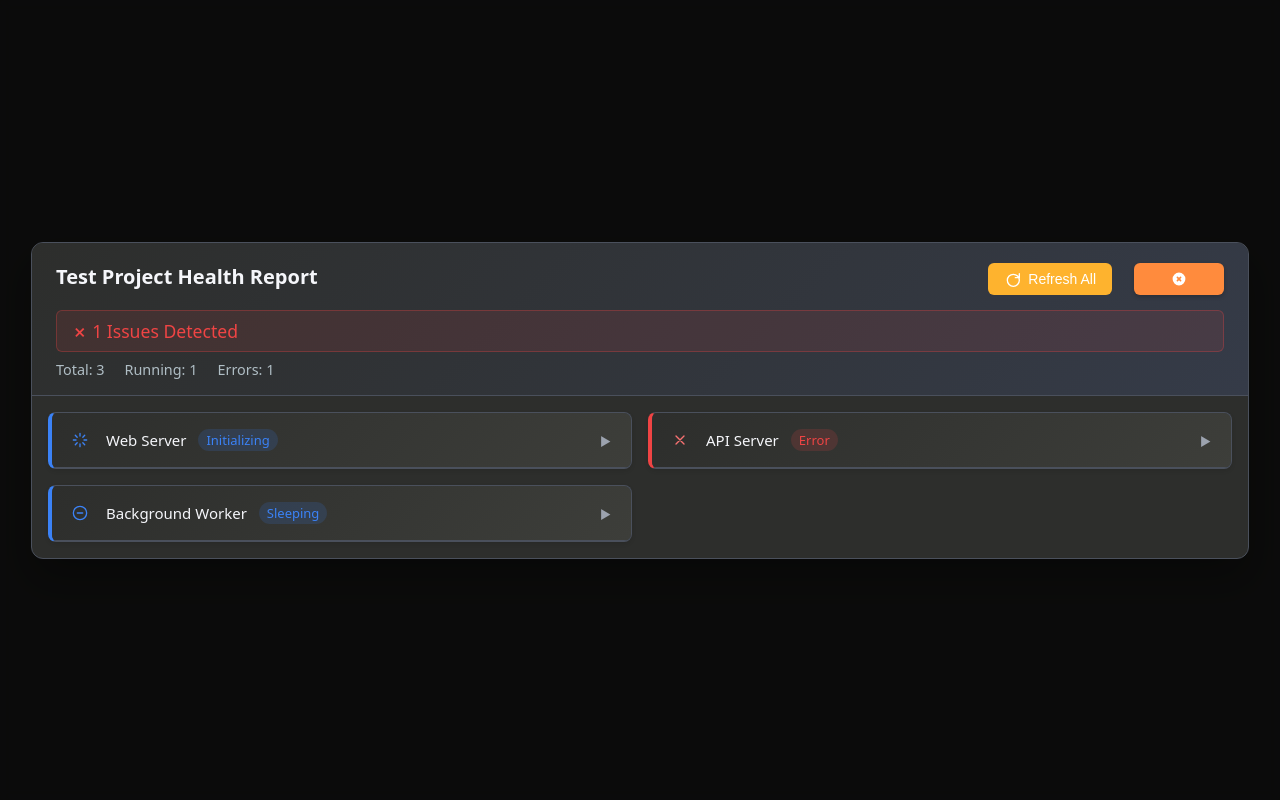
HealthReportScreen › Terminal Section Interactions › should expand and collapse terminal sections
Expected: the text "Web Server" is shown, [106,430,186,450]
Expected: the element with test id "terminal-section-Web Server" shows "▶", [600,432,611,450]
// Click to expand
What coordinates should you click on to do the following:
click the element with test id "terminal-section-Web Server"
I would click on:
 (342, 440)
Its box is [52,412,631,468].
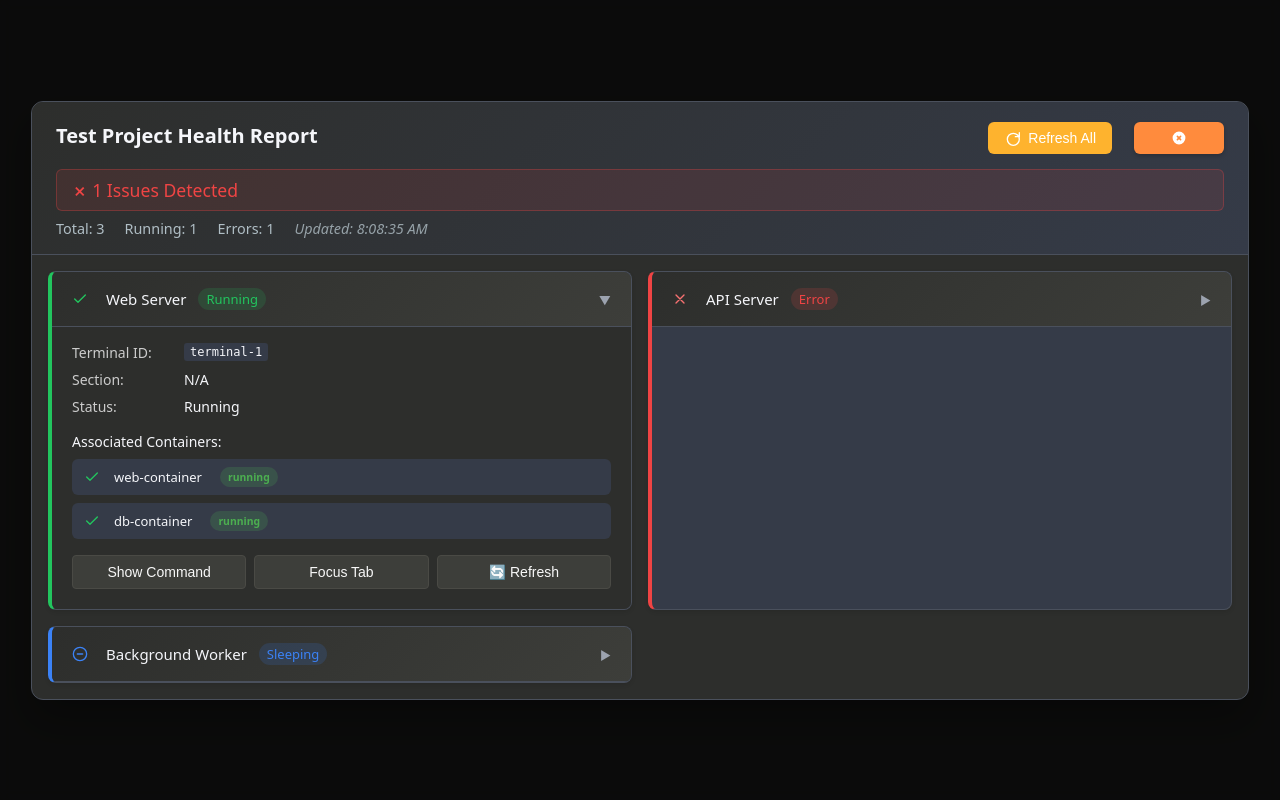
Expected: the element with test id "terminal-section-Web Server" shows "▼", [599,292,611,308]
